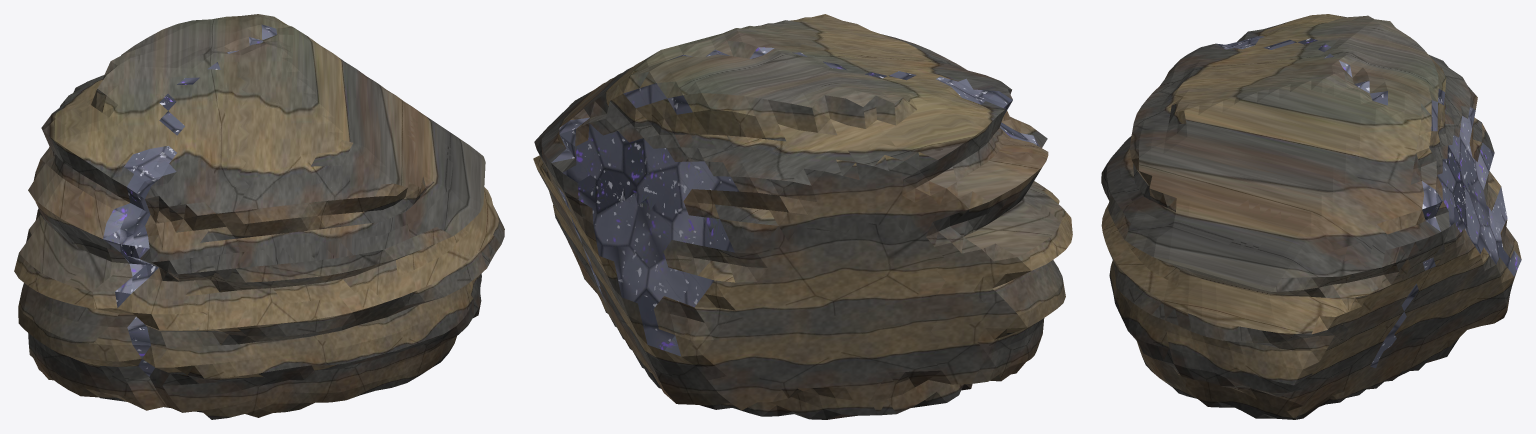
The model's file is boulder.glb.
The picture shows the model from 3 angles, left to right: view 1: azimuth 30°, elevation 25°; view 2: azimuth 150°, elevation 25°; view 3: azimuth 270°, elevation 25°; orthographic projection. The views are drawn at different scales.
Parts seen in each view (by area): view 1: BoulderMesh; view 2: BoulderMesh; view 3: BoulderMesh.
Part boxes in pixels (x1,y1,x2,y2): BoulderMesh: (14,14,504,419); BoulderMesh: (533,14,1072,419); BoulderMesh: (1101,14,1521,419).
Size of the model in its own units: 1.9 by 1.12 by 1.55.
2 materials, 2 textured.
